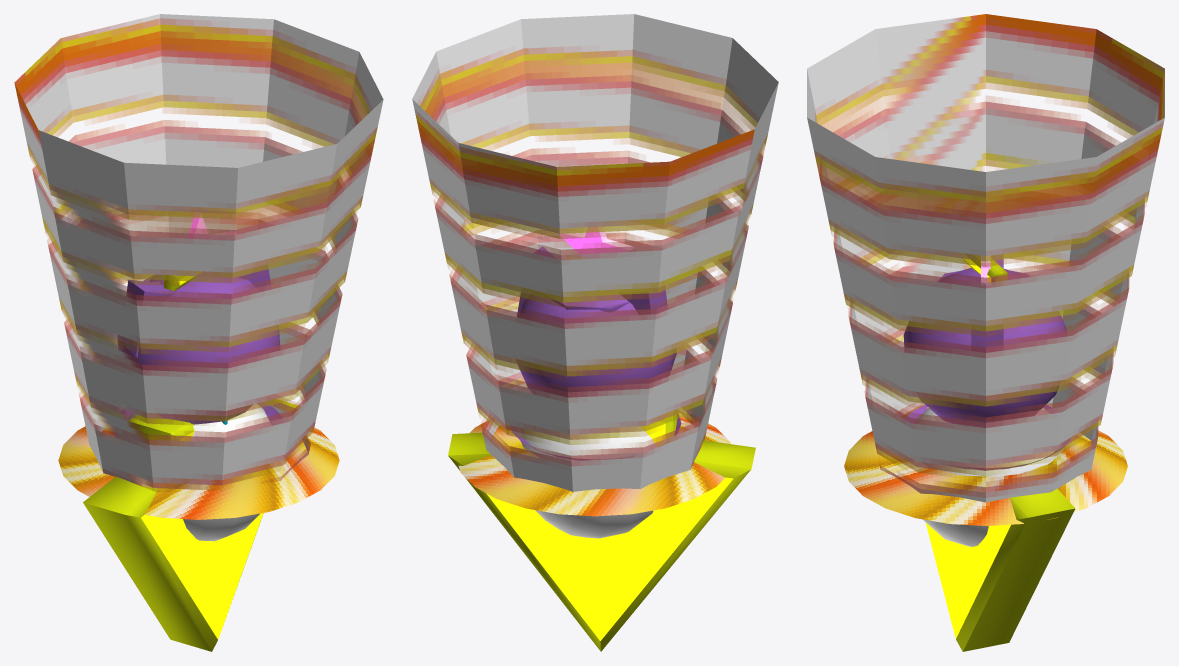
File: bits.glb
3 views of the same model, side by side, from view 1: azimuth 30°, elevation 25°; view 2: azimuth 150°, elevation 25°; view 3: azimuth 270°, elevation 25° (orthographic).
Visible parts, largest first — view 1: Teleport, Arrow, Spinner, BoxCoco, Ball, BoxFrosties; view 2: Teleport, Arrow, Spinner, BoxCoco, Ball, BoxRK, BoxFrosties; view 3: Teleport, Arrow, Spinner, BoxCoco, Ball, BoxFrosties.
Part boxes in pixels (left/top/right/bottom): Teleport: left=14, top=14, right=383, bottom=491; Arrow: left=83, top=275, right=300, bottom=651; Spinner: left=58, top=402, right=339, bottom=519; BoxCoco: left=117, top=272, right=280, bottom=424; Ball: left=128, top=404, right=270, bottom=541; BoxFrosties: left=120, top=264, right=271, bottom=358; Teleport: left=412, top=14, right=778, bottom=491; Arrow: left=448, top=410, right=755, bottom=651; Spinner: left=458, top=411, right=730, bottom=516; BoxCoco: left=518, top=294, right=676, bottom=396; Ball: left=520, top=426, right=655, bottom=538; BoxRK: left=558, top=227, right=633, bottom=253; BoxFrosties: left=517, top=246, right=667, bottom=356; Teleport: left=807, top=14, right=1164, bottom=502; Arrow: left=905, top=255, right=1075, bottom=651; Spinner: left=844, top=405, right=1127, bottom=525; BoxCoco: left=903, top=268, right=1066, bottom=426; Ball: left=915, top=408, right=1063, bottom=546; BoxFrosties: left=971, top=254, right=1003, bottom=352.
Bounding box in the file's own units: 2.46 × 4.04 × 2.35.
Materials: 11 (3 with a texture image).
